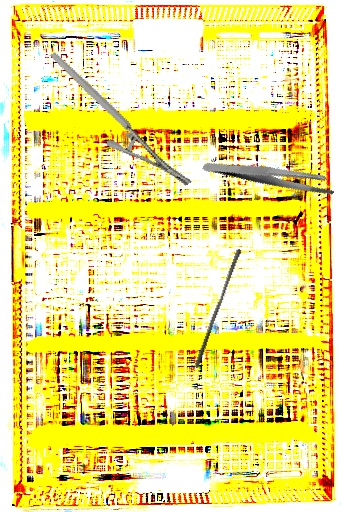Dressing Forceps: (201, 129, 339, 223)
Needle Holder: (48, 23, 194, 214)
Pusher: (194, 247, 242, 370)
